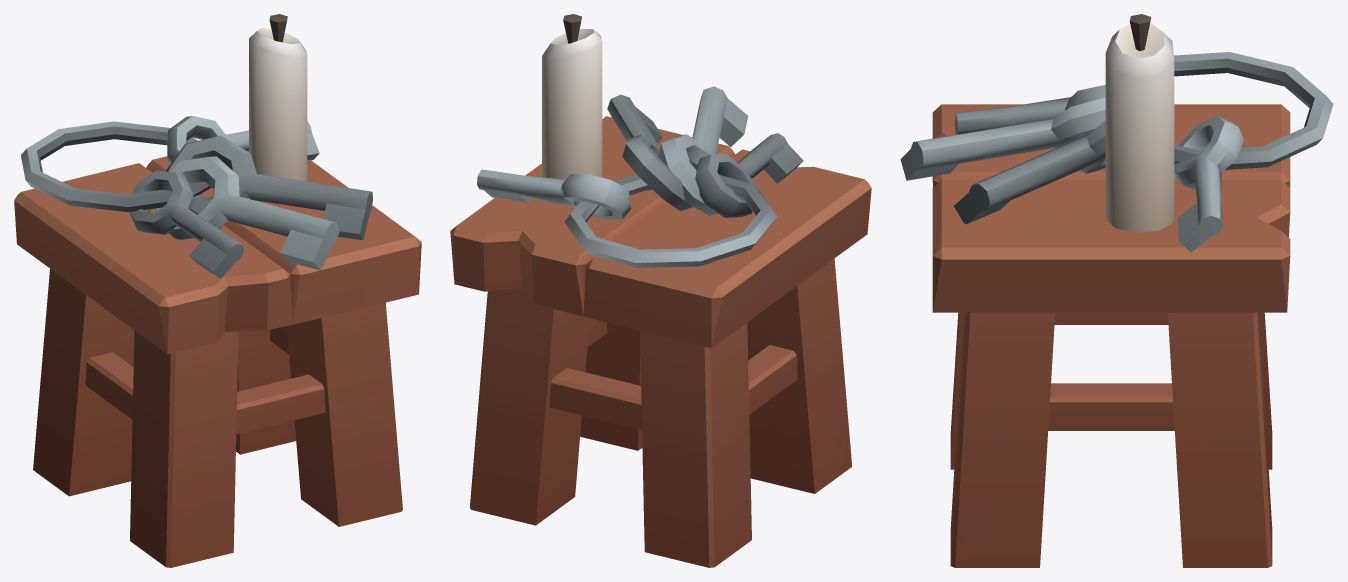
Rendered from desk.glb.
3 views of the same model, side by side, from view 1: azimuth 30°, elevation 25°; view 2: azimuth 150°, elevation 25°; view 3: azimuth 270°, elevation 25° (orthographic). The views are drawn at different scales.
Parts seen in each view (by area): view 1: table_small_decorated_A; view 2: table_small_decorated_A; view 3: table_small_decorated_A.
Part boxes in pixels (x1,y1,x2,y2): table_small_decorated_A: (14,14,421,567); table_small_decorated_A: (450,14,871,567); table_small_decorated_A: (900,14,1333,567).
Bounding box in the file's own units: 1.04 × 1.62 × 1.21.
1 material, 1 textured.
